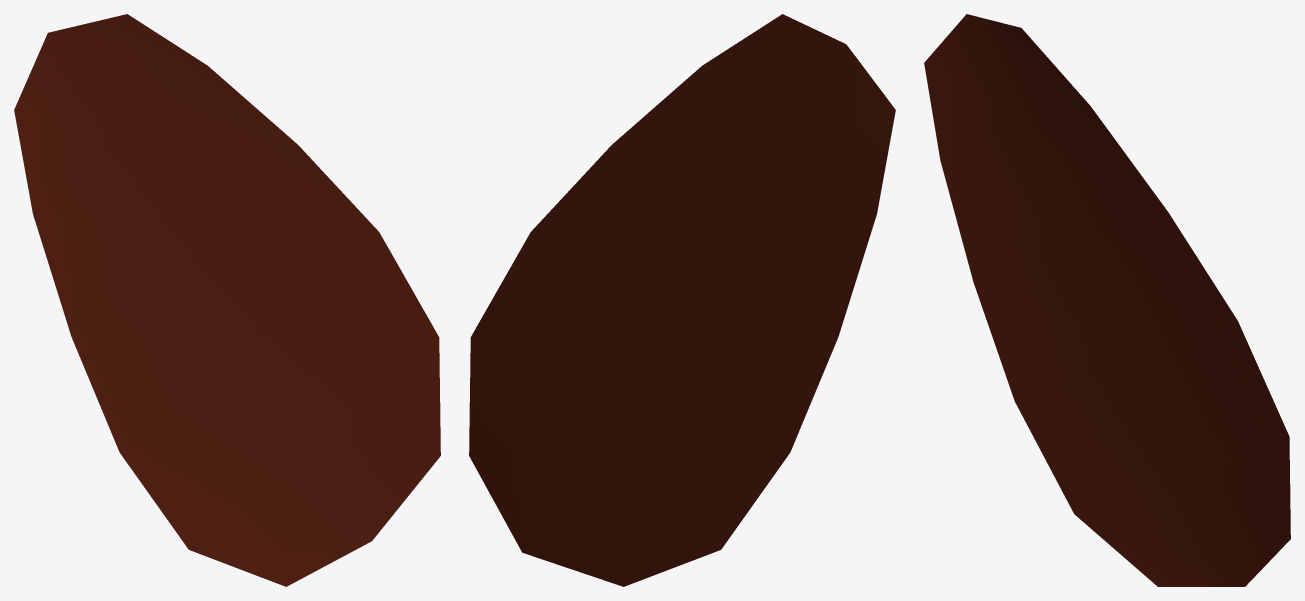
The model's file is finch_feather_flight_tertiary_054.obj.
The picture shows the model from 3 angles, left to right: view 1: azimuth 30°, elevation 25°; view 2: azimuth 150°, elevation 25°; view 3: azimuth 330°, elevation 25°; orthographic projection. The views are drawn at different scales.
Visible parts, largest first — view 1: feather_flight_tertiary_054; view 2: feather_flight_tertiary_054; view 3: feather_flight_tertiary_054.
Part boxes in pixels (x1=…): feather_flight_tertiary_054: x1=14, y1=14, x2=440, y2=586; feather_flight_tertiary_054: x1=469, y1=14, x2=895, y2=586; feather_flight_tertiary_054: x1=924, y1=14, x2=1290, y2=586.
Bounding box in the file's own units: 0.00481 × 0.00658 × 0.000153.
